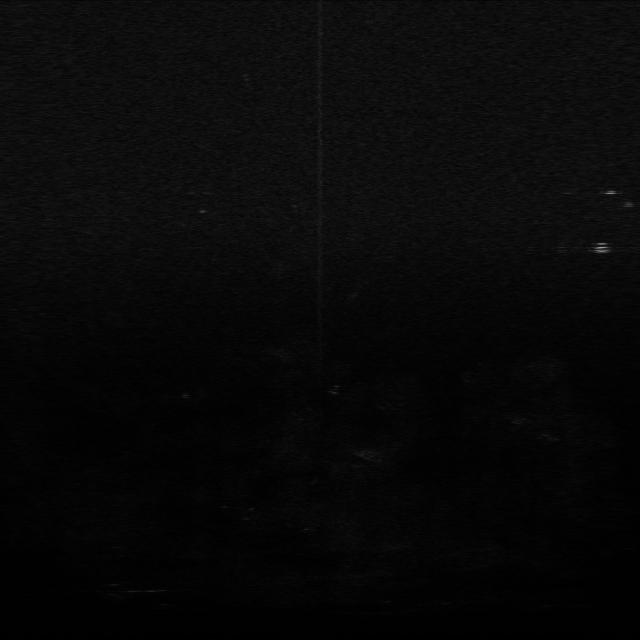rov: (588, 237, 614, 259)
